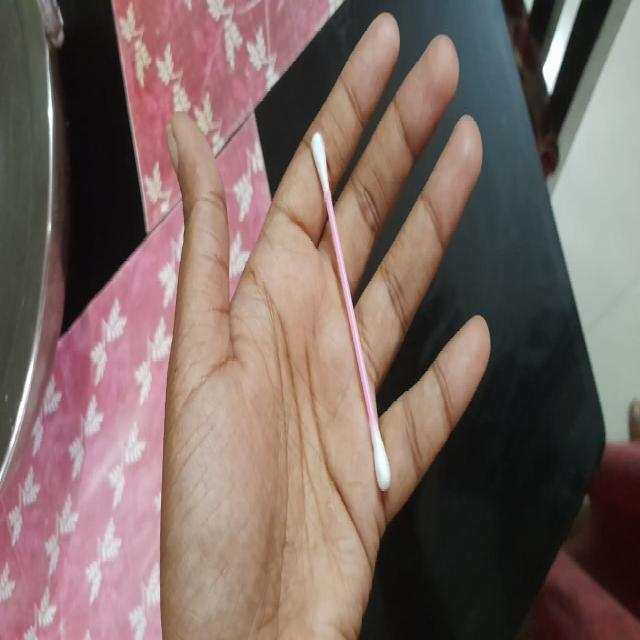Earbud - Non Recyclable: (308, 128, 392, 494)
